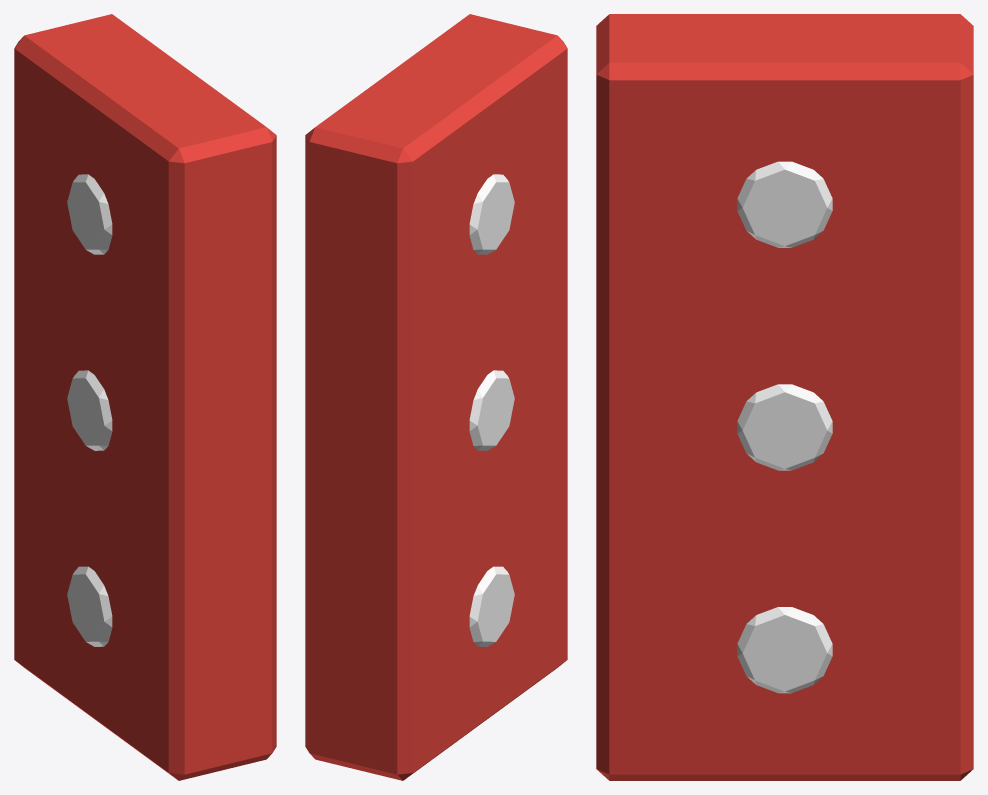
File: domino_red.glb
3 views of the same model, side by side, from view 1: azimuth 30°, elevation 25°; view 2: azimuth 150°, elevation 25°; view 3: azimuth 270°, elevation 25° (orthographic). The views are drawn at different scales.
Parts seen in each view (by area): view 1: domino_red; view 2: domino_red; view 3: domino_red.
Part boxes in pixels (<box>): domino_red: <box>14,14,276,780</box>; domino_red: <box>305,14,567,780</box>; domino_red: <box>596,14,973,780</box>.
Size of the model in its own units: 0.083 by 0.42 by 0.2.
